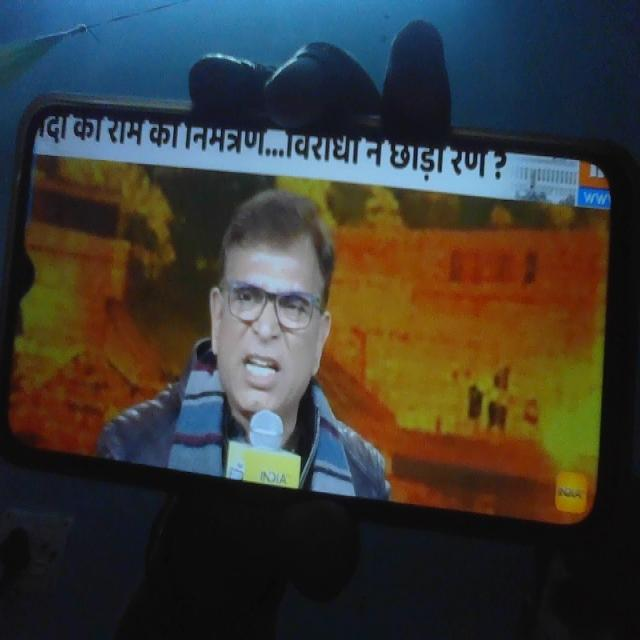fake: (202, 192, 331, 436)
